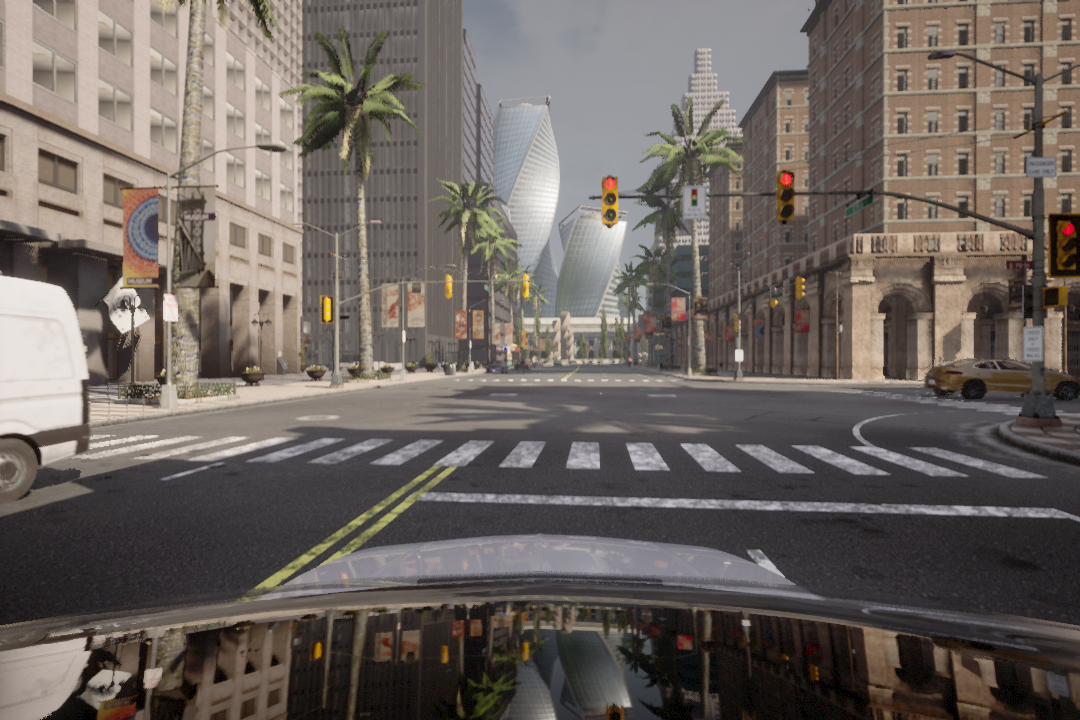TrafficLight: (1053, 214, 1080, 273), (599, 171, 618, 227), (777, 170, 797, 223)
walkside: (58, 428, 1041, 489)
